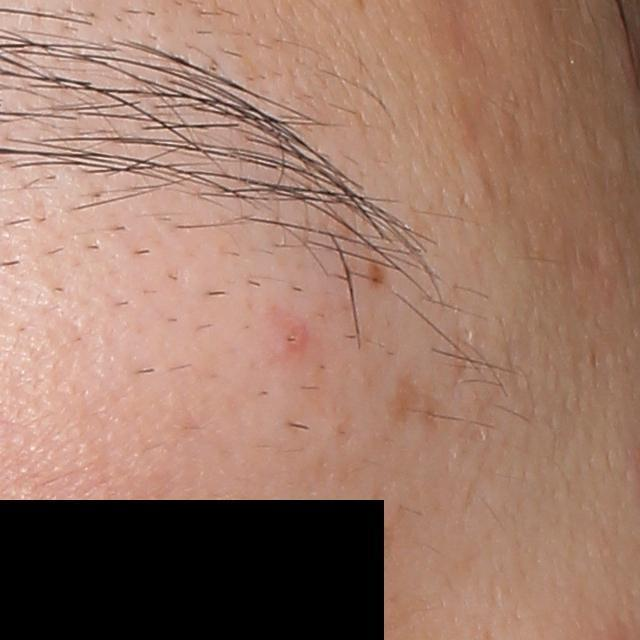papule: (281, 320, 309, 355)
